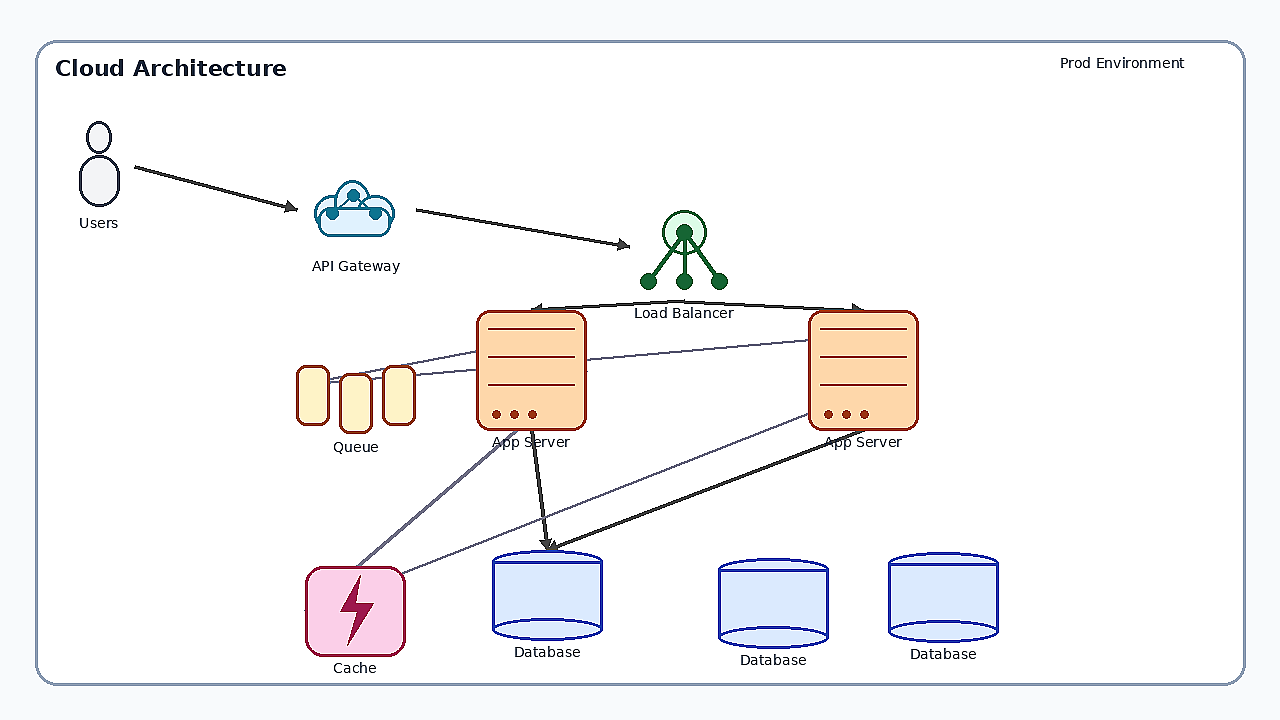API Gateway: (296, 164, 416, 254)
Application Server: (476, 310, 586, 430), (808, 310, 918, 430)
Cache: (305, 566, 405, 656)
Database: (888, 552, 998, 642), (718, 558, 828, 648), (492, 550, 602, 640)
Load Balancer: (629, 191, 739, 301)
Message Queue: (296, 365, 416, 435)
User: (64, 121, 134, 211)
